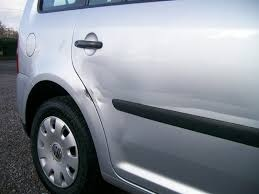Dent: (80, 74, 115, 110)
